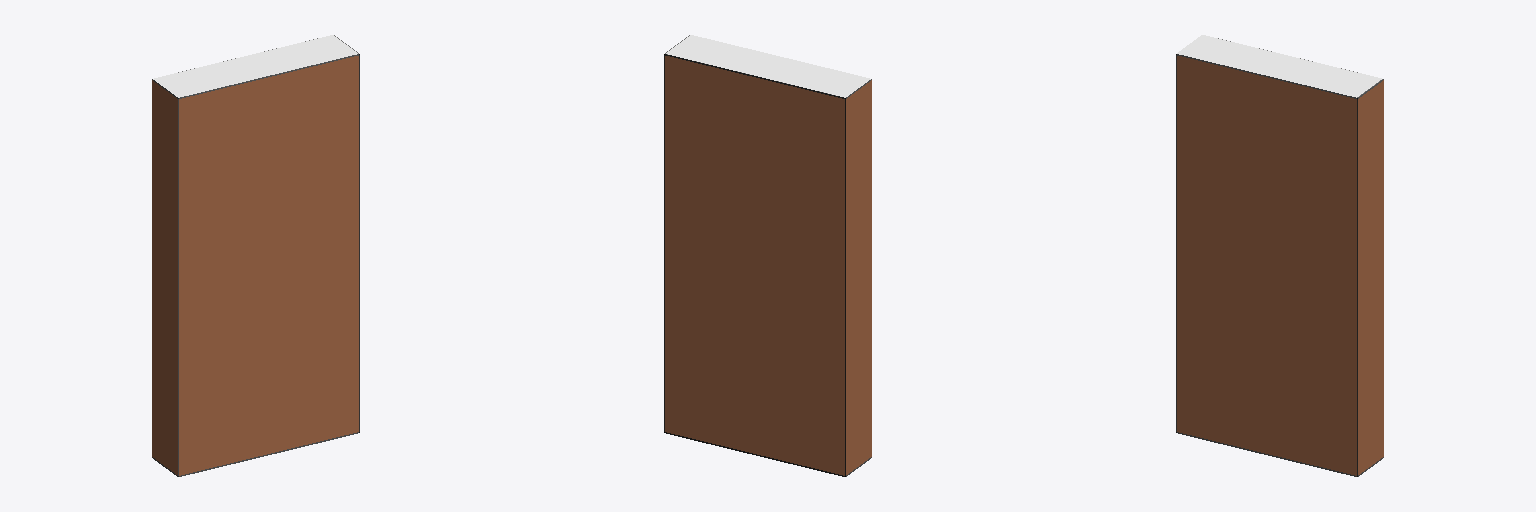
The picture shows the model from 3 angles: view 1: azimuth 30°, elevation 25°; view 2: azimuth 150°, elevation 25°; view 3: azimuth 330°, elevation 25°; orthographic projection.
Visible parts, largest first — view 1: Cube; view 2: Cube; view 3: Cube.
Part boxes in pixels (left/top/right/bottom): Cube: left=152, top=35, right=359, bottom=476; Cube: left=664, top=35, right=871, bottom=476; Cube: left=1176, top=35, right=1383, bottom=476.
Size of the model in its own units: 2 by 4 by 0.5.
Materials: 1 (1 with a texture image).